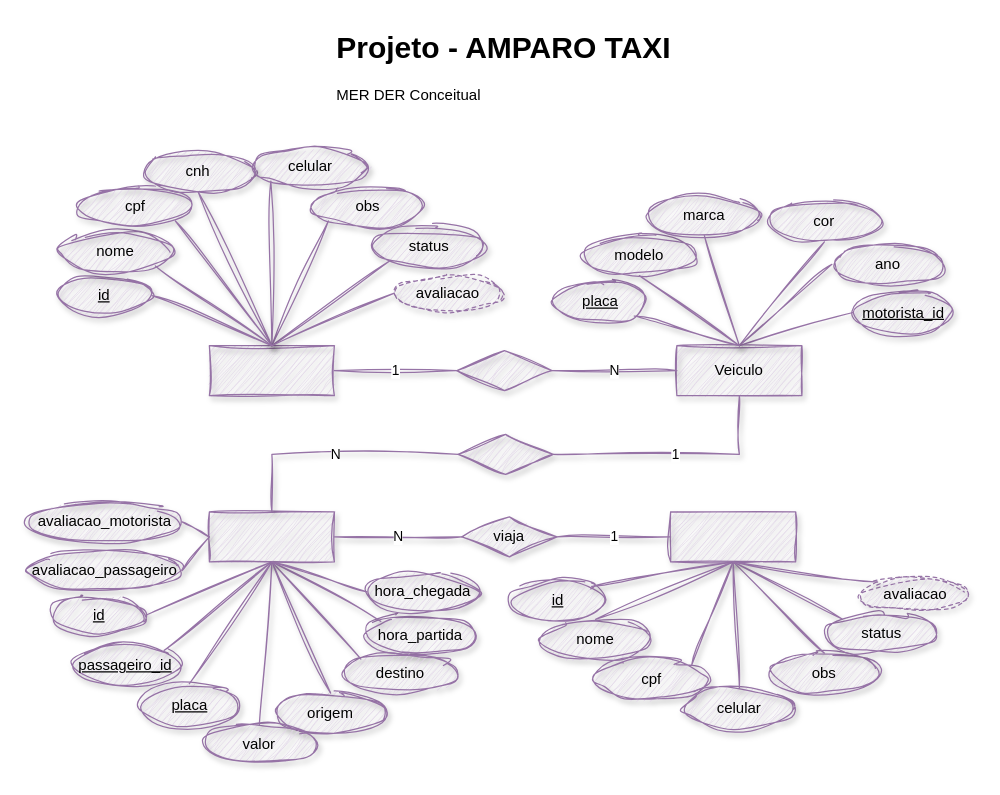
Some shapes in this 1000 by 795 pixel diagram are drawn without their labels. The shapes that lost their labels are listed below. From the top down, each one's centre as x and y in pixels, then its label:
At point 272,371: "Motorista".
At point 505,371: "dirige".
At point 506,455: "urtiliza".
At point 272,538: "Viagem".
At point 733,538: "Passageiro".
